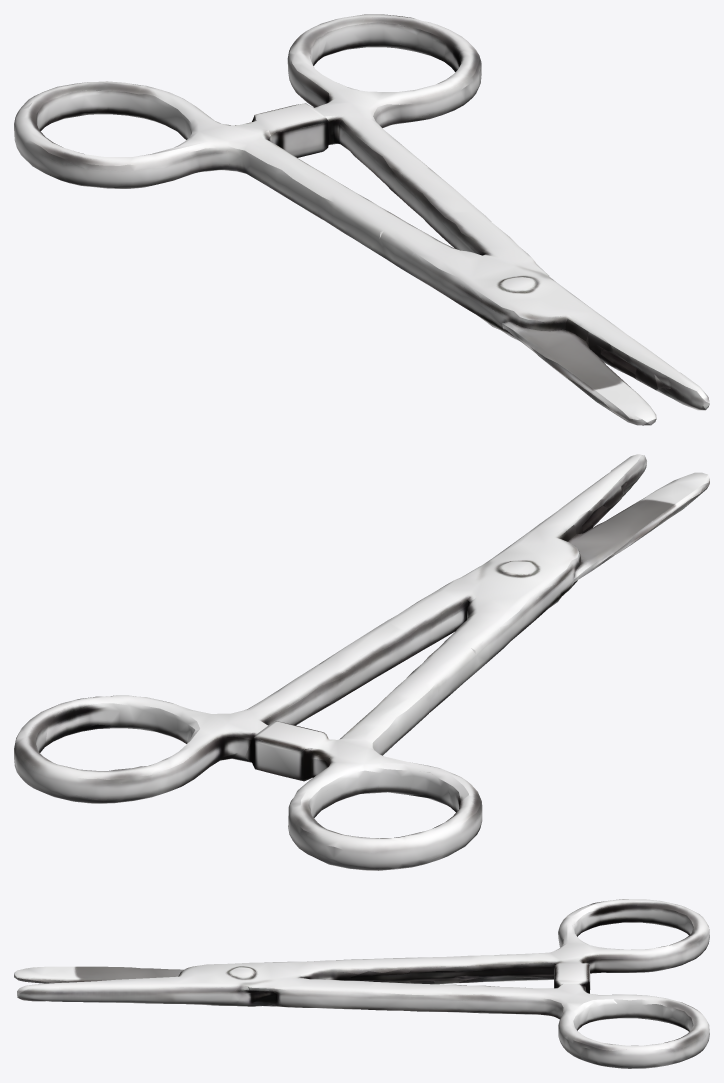
Rendered from StageScissors.glb.
3 views of the same model, one above another, from view 1: azimuth 30°, elevation 25°; view 2: azimuth 150°, elevation 25°; view 3: azimuth 270°, elevation 25° (orthographic). The views are drawn at different scales.
Parts seen in each view (by area): view 1: geometry_0; view 2: geometry_0; view 3: geometry_0.
Part boxes in pixels (<box>): geometry_0: <box>14,14,709,425</box>; geometry_0: <box>14,454,709,870</box>; geometry_0: <box>14,899,709,1068</box>.
Size of the model in its own units: 0.0783 by 0.00595 by 0.15.
Materials: 1 (1 with a texture image).
